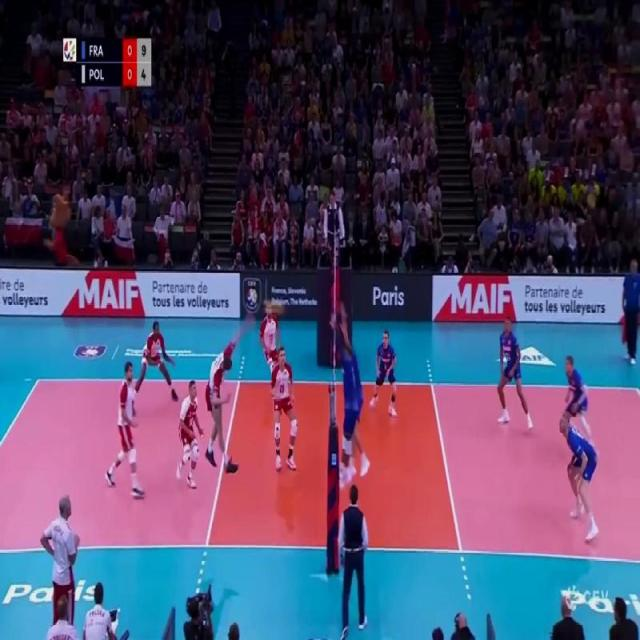volleyball: (272, 300, 284, 314)
